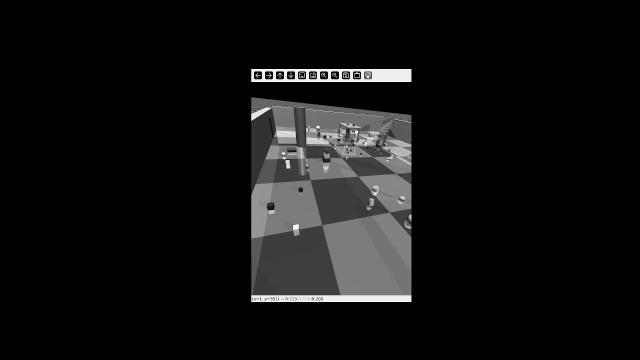cilindro: (295, 106, 308, 146), (284, 146, 298, 153), (372, 184, 381, 194), (368, 198, 377, 207), (381, 131, 386, 141), (307, 125, 311, 133), (316, 131, 321, 137), (380, 149, 383, 154), (346, 153, 350, 156), (351, 143, 354, 147), (388, 149, 391, 153), (366, 138, 369, 142), (329, 142, 332, 145), (346, 150, 349, 153), (342, 135, 344, 139), (346, 143, 348, 146), (365, 147, 367, 150)
cuadrado: (265, 202, 275, 214), (291, 223, 300, 234), (323, 153, 331, 158), (337, 127, 343, 133), (368, 132, 375, 137), (323, 149, 329, 154), (285, 160, 290, 165), (383, 143, 388, 147), (350, 139, 354, 143), (408, 153, 412, 157), (323, 134, 326, 139), (391, 154, 394, 158), (334, 142, 337, 145), (367, 146, 370, 149), (352, 123, 355, 126)
esfera: (296, 186, 305, 193), (407, 211, 412, 223), (399, 195, 406, 203), (304, 163, 310, 168), (280, 152, 287, 156), (328, 133, 333, 138), (315, 126, 321, 130), (354, 130, 358, 134), (356, 137, 360, 141), (386, 157, 390, 160), (360, 152, 363, 155), (350, 149, 353, 152), (375, 148, 378, 151), (345, 148, 349, 150), (346, 123, 349, 125), (338, 141, 341, 143), (363, 136, 366, 138), (362, 142, 365, 144), (334, 146, 337, 147), (352, 130, 353, 132)
rectangulo: (320, 156, 331, 163), (376, 143, 381, 148), (354, 134, 358, 138), (337, 138, 341, 141)
